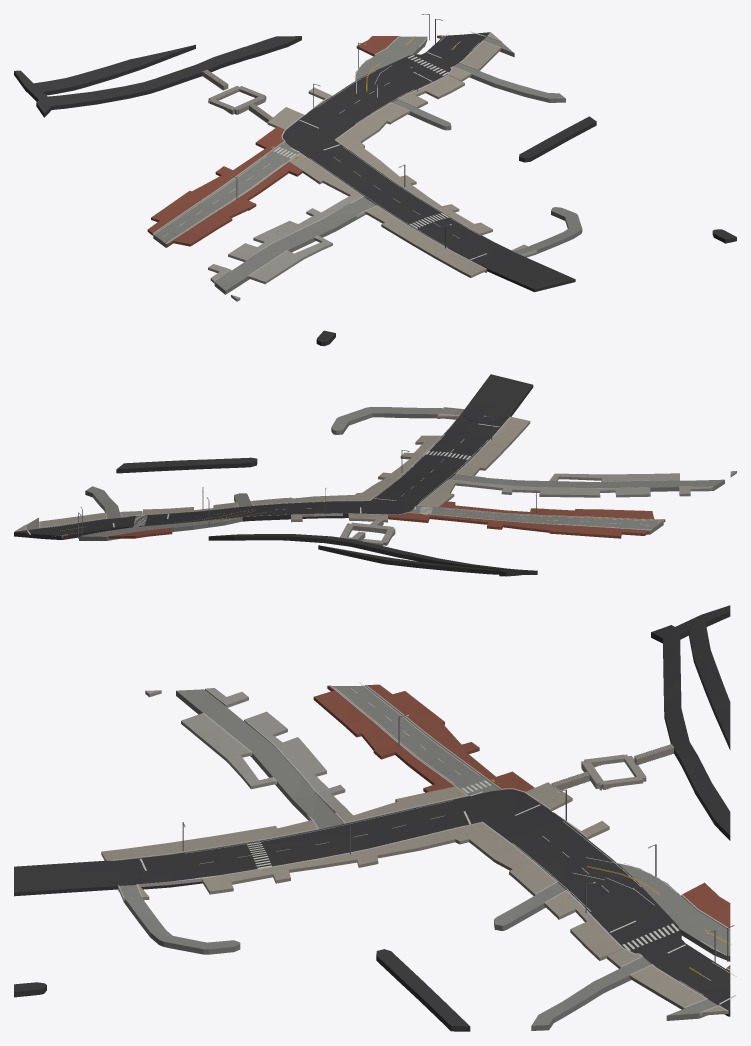
3 renders of one model, top to bottom at view 1: azimuth 30°, elevation 25°; view 2: azimuth 150°, elevation 25°; view 3: azimuth 270°, elevation 25°, orthographic. The views are drawn at different scales.
Bounding box in the file's own units: 148 × 27.4 × 147.
